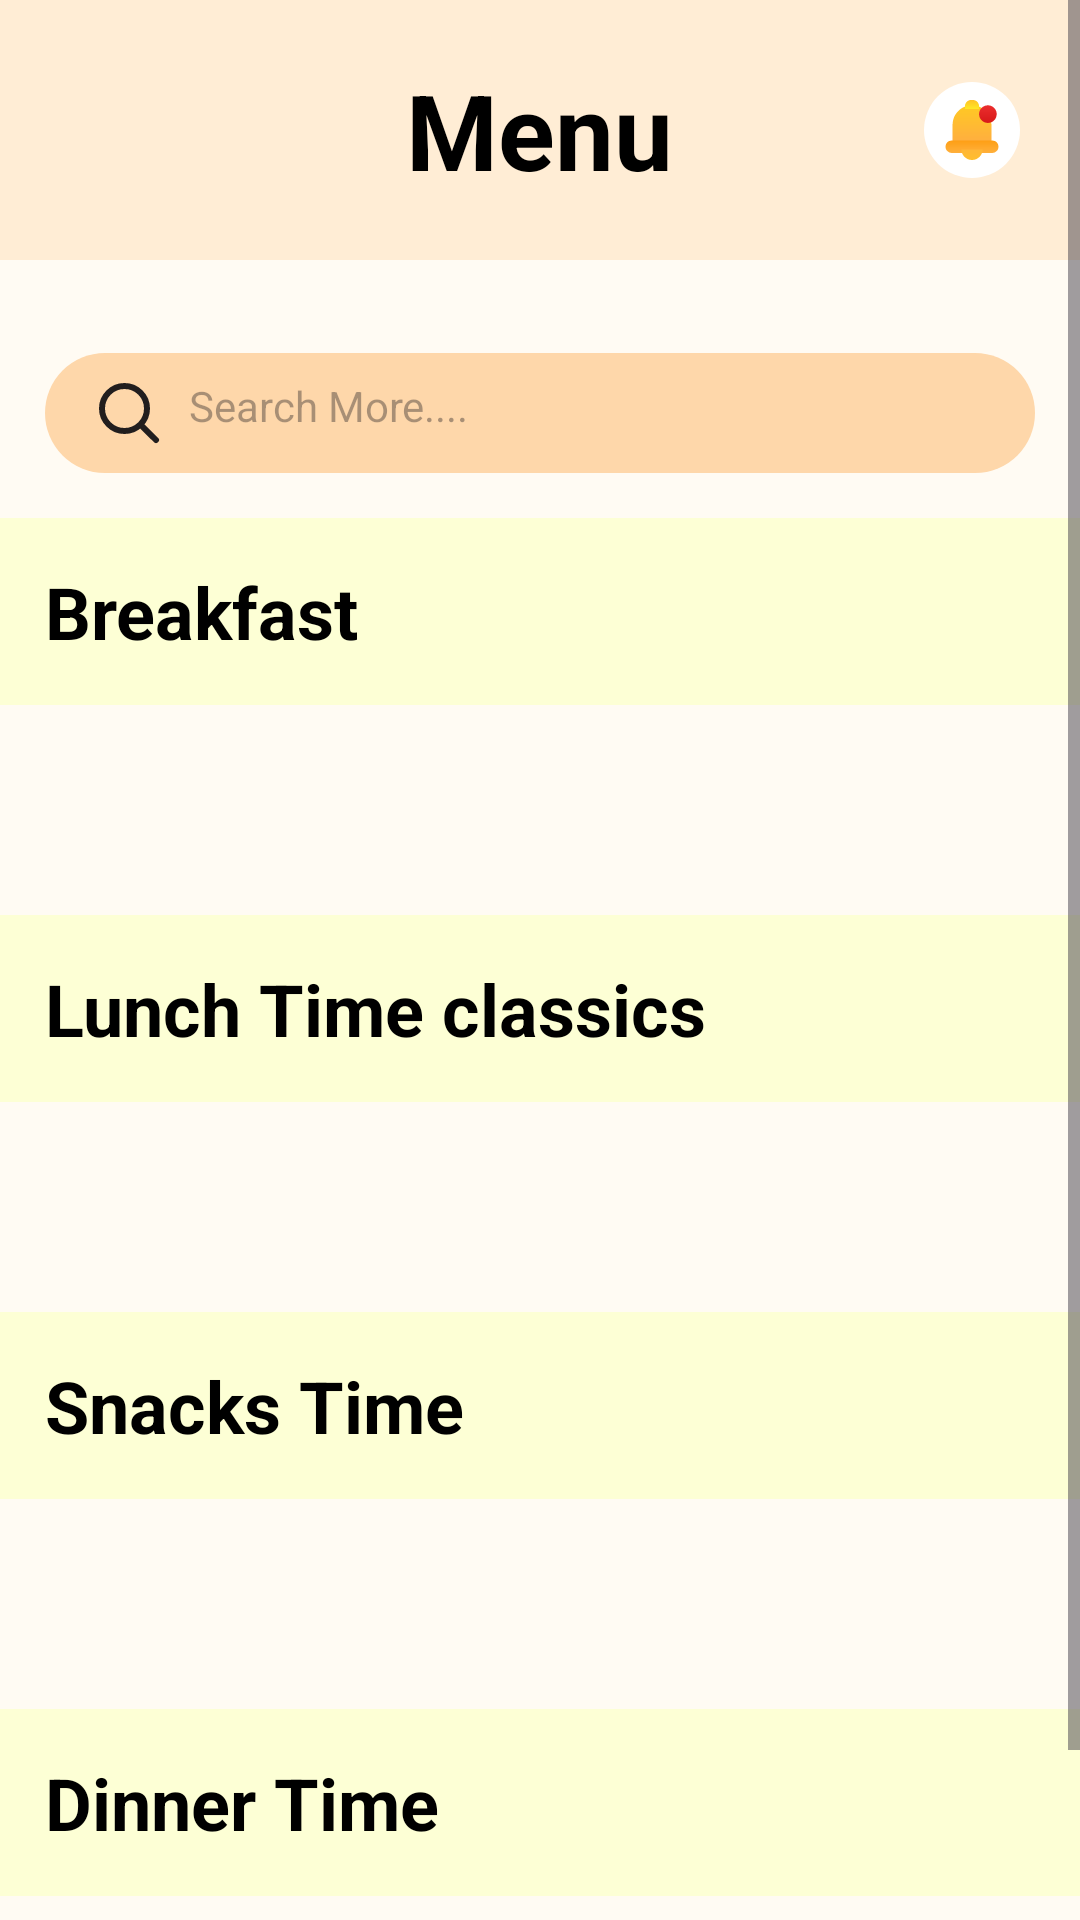

Point at icon controls on the screen. Image size 1080*1920, points as point (x, y).
Notification button: point (972, 130)
